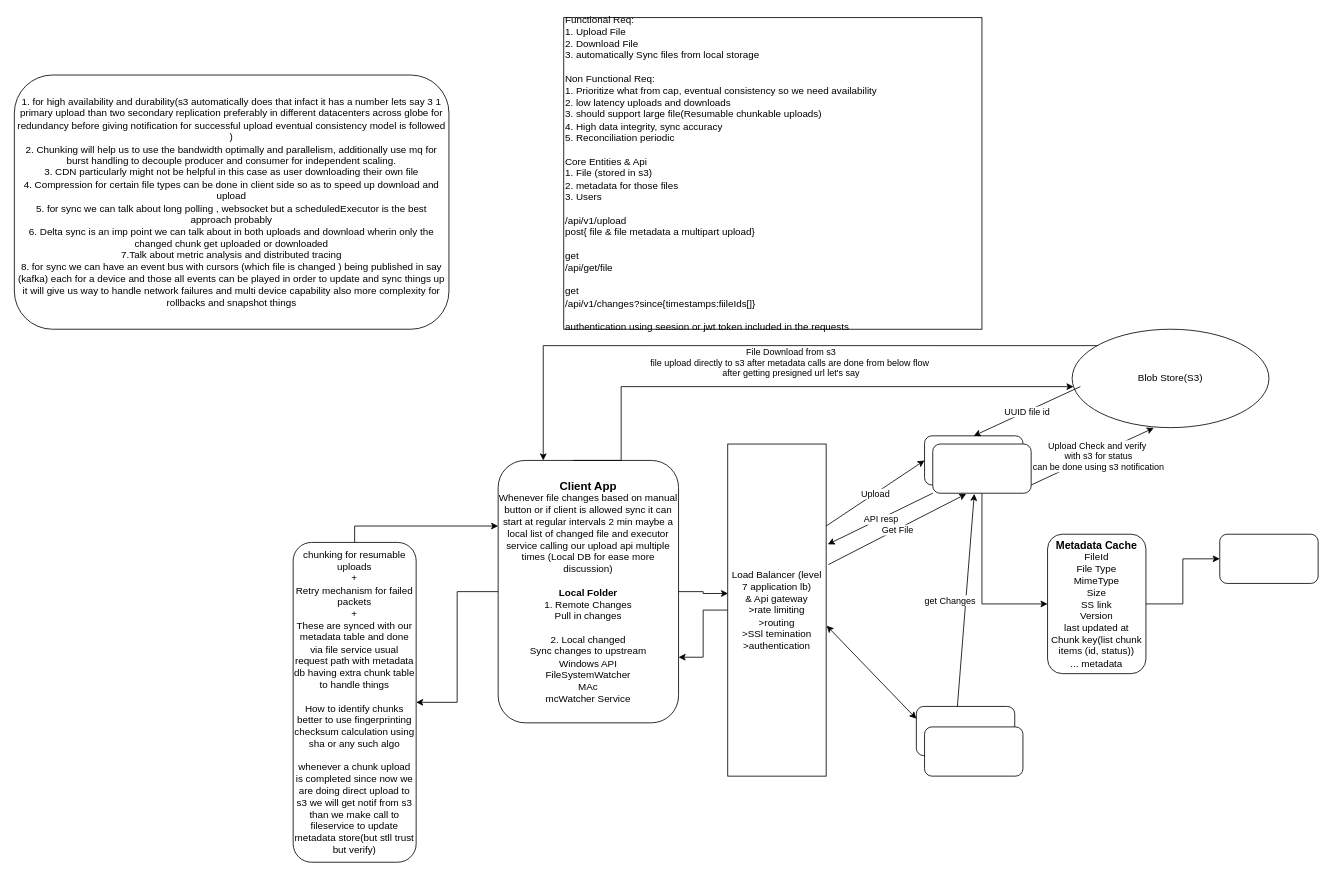
Some shapes in this 1333 by 877 pixel diagram are drawn without their labels. The shapes that lost their labels are listed below. From the top down, each one's centre as x and y in pixels, then its label:
At pixel 981 468: "File Service".
At pixel 1268 558: "Metdata Db(Relational)".
At pixel 973 751: "Sync Service".
